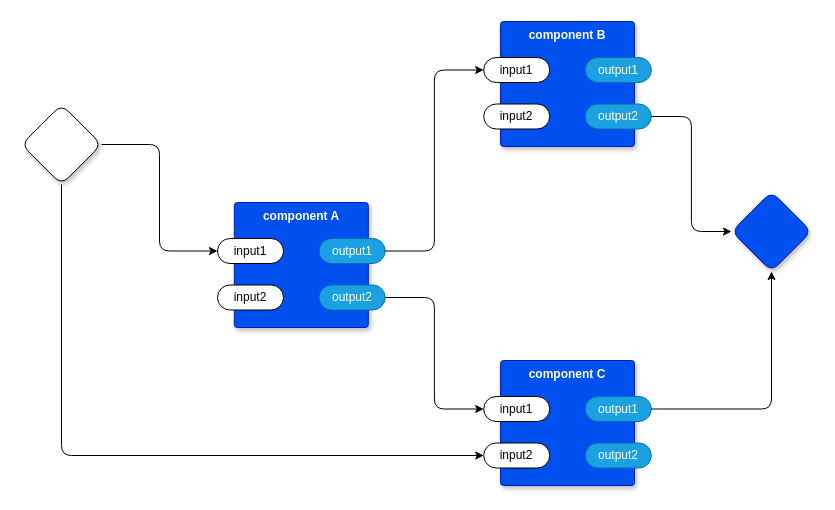
This 835x510 diagram has some shape labels left out. The shapes that lost their labels are listed below. From the top down, each one's centre as x and y in pixels, then its label:
At (x=62, y=146): "input".
At (x=772, y=232): "output".
